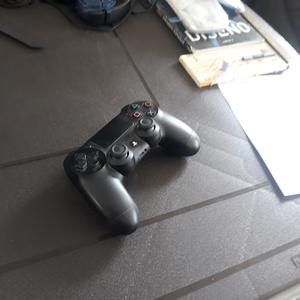controller: (63, 100, 201, 235)
